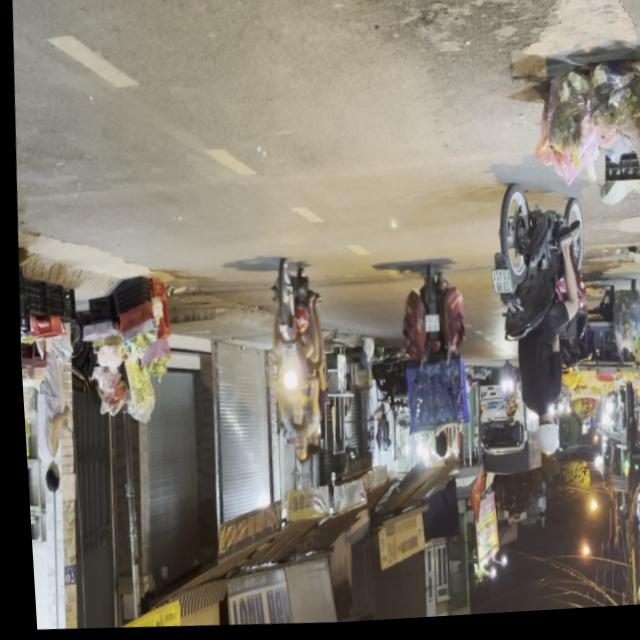helmet: (526, 421, 553, 463)
licenseplate: (475, 185, 594, 469), (386, 265, 469, 471), (254, 259, 327, 473)
motorcyclist: (284, 435, 303, 468), (424, 434, 443, 466), (282, 404, 301, 434)
nohelmet: (486, 274, 510, 300), (418, 319, 434, 337)
